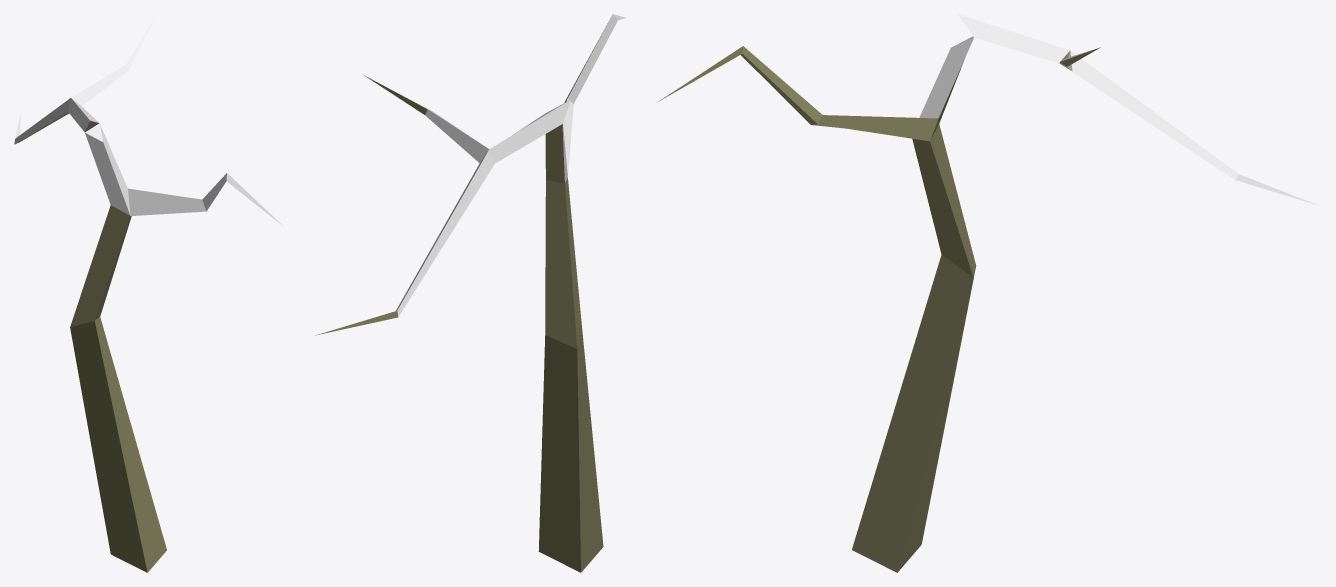
File: Dead_Tree_crk_s_Snow_02_LOD.fbx
3 views of the same model, side by side, from view 1: azimuth 30°, elevation 25°; view 2: azimuth 150°, elevation 25°; view 3: azimuth 270°, elevation 25° (orthographic). The views are drawn at different scales.
Parts seen in each view (by area): view 1: Dead_Tree_crk_s_Snow_02_LOD0; view 2: Dead_Tree_crk_s_Snow_02_LOD0; view 3: Dead_Tree_crk_s_Snow_02_LOD0.
Boxes of the visible parts, x1,y1,x2,y2 form: Dead_Tree_crk_s_Snow_02_LOD0: (14, 16, 284, 572); Dead_Tree_crk_s_Snow_02_LOD0: (316, 14, 625, 572); Dead_Tree_crk_s_Snow_02_LOD0: (657, 14, 1319, 572).
Size of what is drawn, in the model's own units: 57.42 by 184 by 195.
